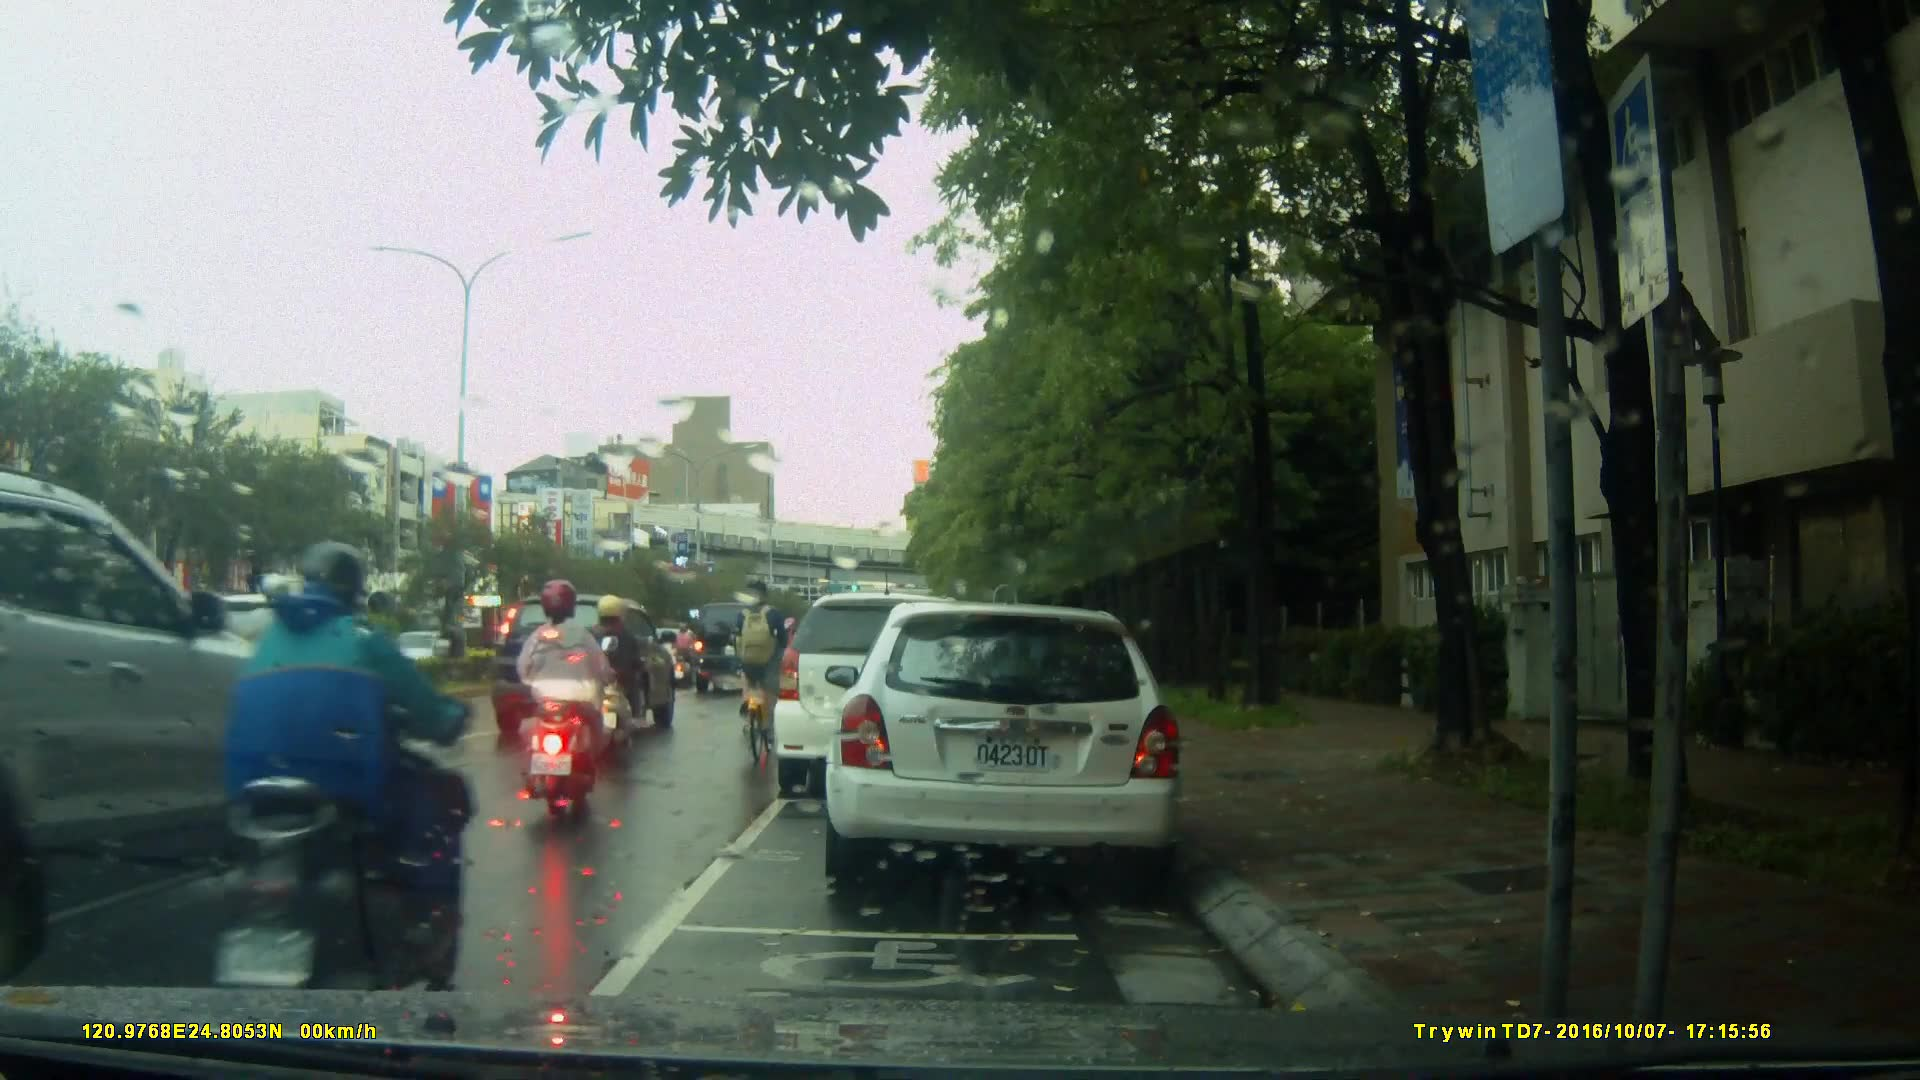rider: (214, 539, 473, 1047), (519, 580, 622, 817), (730, 581, 790, 765), (585, 592, 648, 761), (670, 620, 701, 687)
vehicle: (1, 470, 370, 988), (822, 604, 1188, 883), (774, 595, 995, 802), (486, 593, 680, 747)
